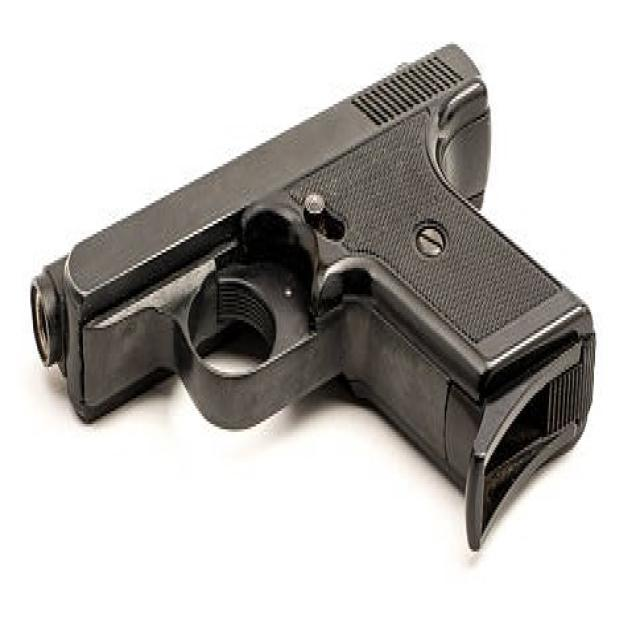pistol: (26, 24, 604, 559)
